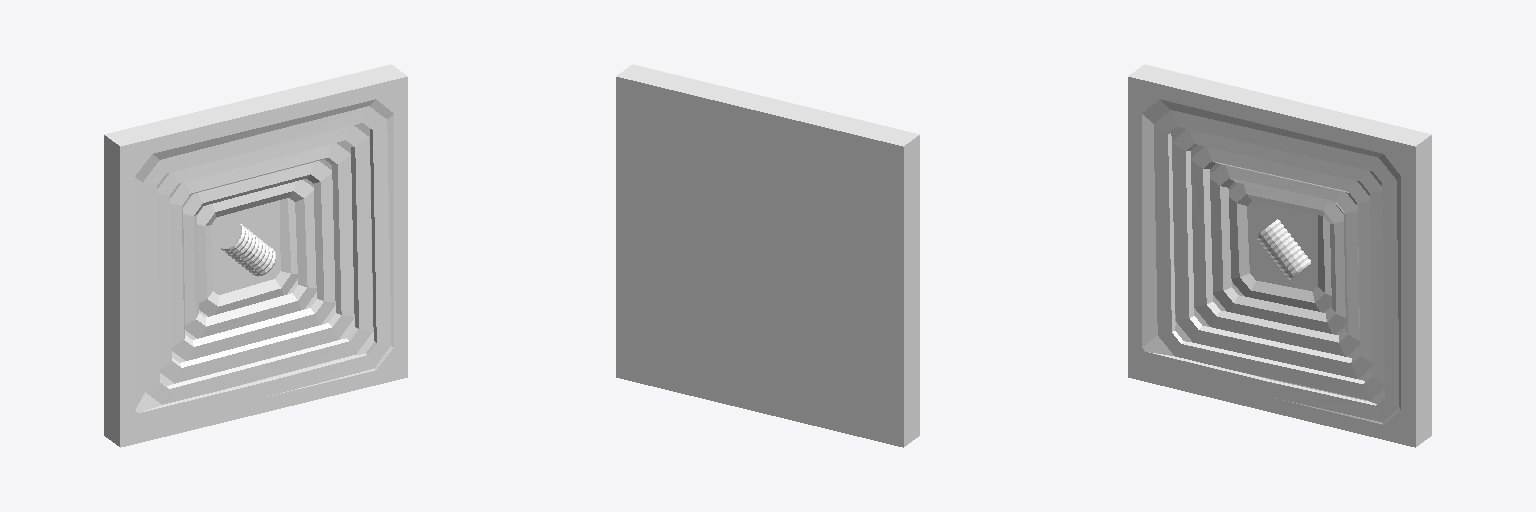
Rendered from pit.obj.
The picture shows the model from 3 angles: view 1: azimuth 30°, elevation 25°; view 2: azimuth 150°, elevation 25°; view 3: azimuth 330°, elevation 25°; orthographic projection.
Visible parts, largest first — view 1: STL object; view 2: STL object; view 3: STL object.
Part boxes in pixels (left/top/right/bottom): STL object: left=104, top=64, right=407, bottom=447; STL object: left=616, top=64, right=919, bottom=447; STL object: left=1128, top=64, right=1431, bottom=447.
Bounding box in the file's own units: 155 × 155 × 15.5.